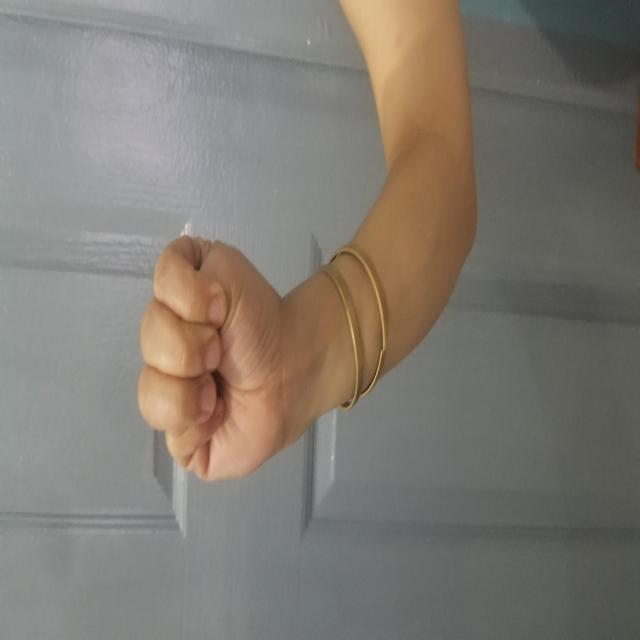M: (101, 192, 299, 534)
